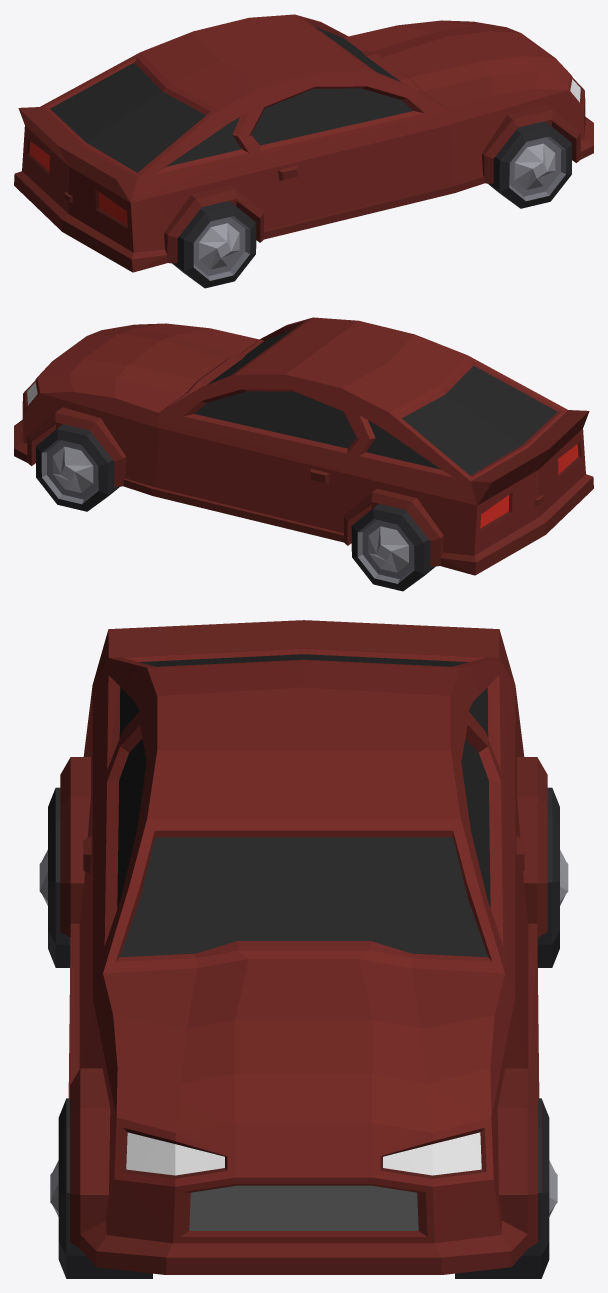
The model's file is car7.fbx.
3 renders of one model, top to bottom at view 1: azimuth 30°, elevation 25°; view 2: azimuth 150°, elevation 25°; view 3: azimuth 270°, elevation 25°, orthographic. The views are drawn at different scales.
Visible parts, largest first — view 1: car7, car7_wheels_B, car7_wheels_F; view 2: car7, car7_wheels_B, car7_wheels_F; view 3: car7, car7_wheels_F, car7_wheels_B.
Boxes of the visible parts, box(x1,y1,x2,y2) form: car7: box(14, 14, 593, 272); car7_wheels_B: box(172, 201, 256, 288); car7_wheels_F: box(488, 121, 571, 208); car7: box(14, 317, 593, 575); car7_wheels_B: box(351, 504, 435, 591); car7_wheels_F: box(36, 424, 119, 511); car7: box(60, 620, 547, 1274); car7_wheels_F: box(50, 1098, 557, 1278); car7_wheels_B: box(39, 787, 568, 967).
Size of the model in its own units: 713 by 223 by 326.
